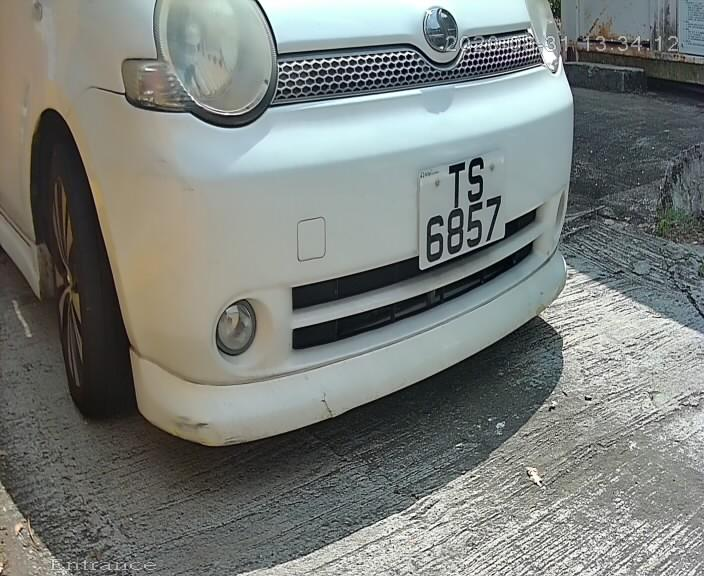License Plate: (409, 145, 513, 278)
